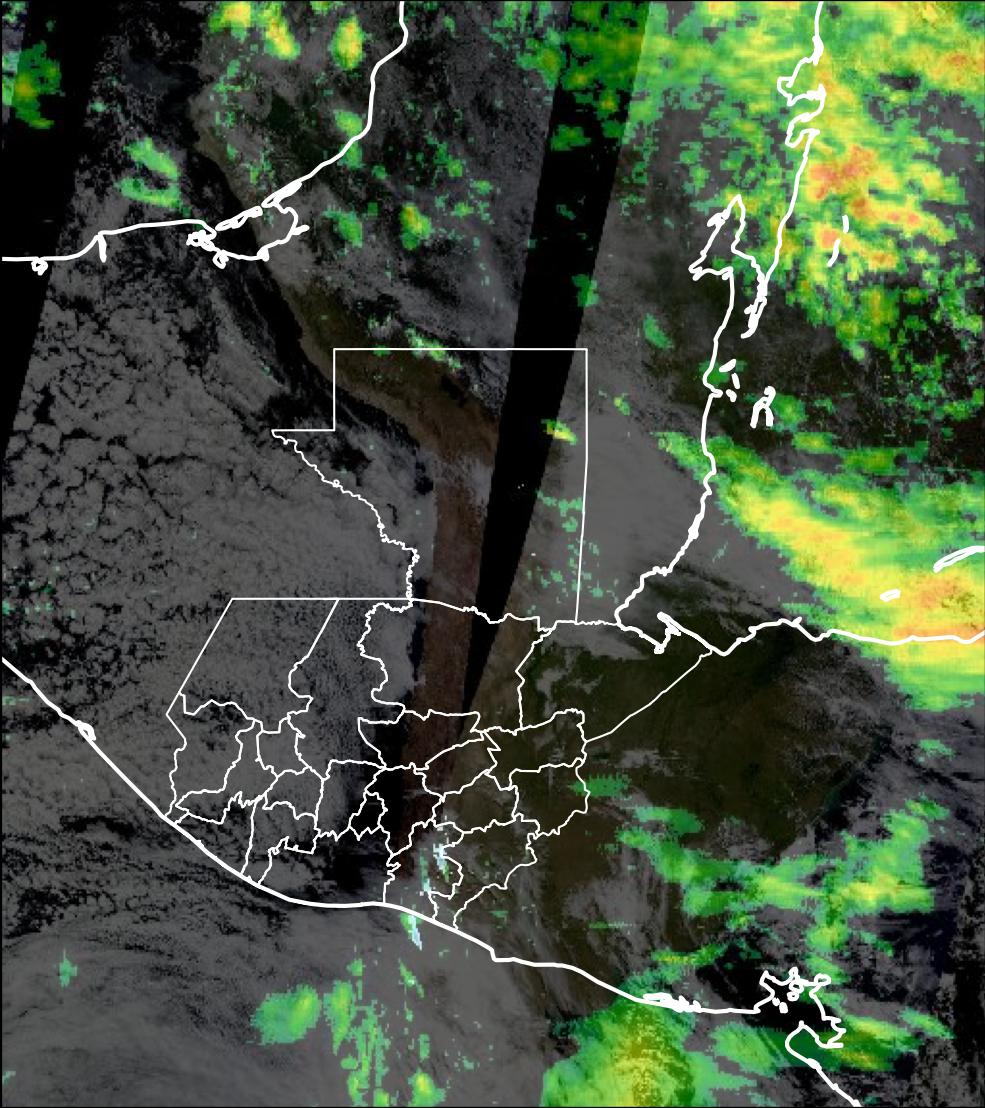precipitacion: (809, 147, 948, 236)
